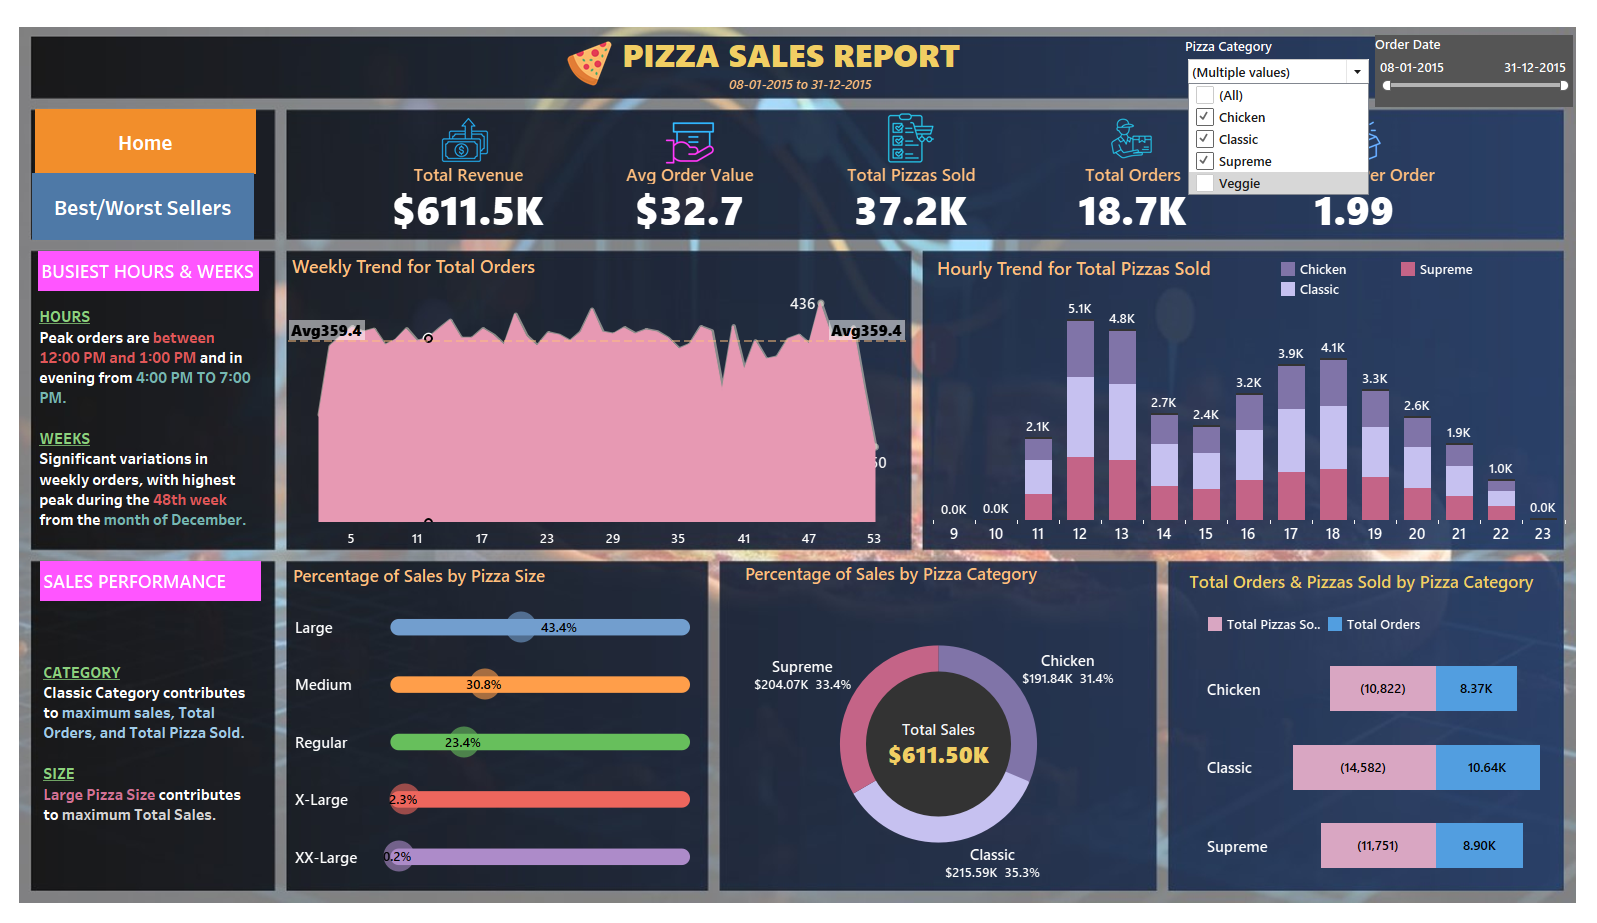

The page's visual inventory and layout, read from the dashboard file:
{"tool":"tableau","page":{"name":"Home","canvas":[1000,1000],"units":"permille","ordinal":1},"visuals":[{"type":"image","param":"C:/Users/Tina/Downloads/Pizza_Sales_DA_Project/Pizza Tableau 1.jpg","box":[5.7,10,988.6,980]},{"type":"text","box":[388.1,16.2,267.9,53.7]},{"type":"filter","title":"Hourly Trend for Total Pizzas Sold","param":"[federated.1rhqq5h0ih03i810tzn9k1f3qnil].[none:order_date:qk]","box":[860.6,22.5,123.8,79.9]},{"type":"filter","title":"Hourly Trend for Total Pizzas Sold","param":"[federated.1rhqq5h0ih03i810tzn9k1f3qnil].[none:pizza_category:nk]","box":[741.8,25,116.6,76.2]},{"type":"image","param":"C:/Users/Tina/Downloads/Pizza_Sales_DA_Project/Pizza Sales Images/pizza-slice.pn","box":[347.1,27.5,44.8,51.2]},{"type":"worksheet","title":"Date Range","mark":"Automatic","box":[335,62.4,333.1,28.7]},{"type":"dashboard-object","box":[22.9,104.9,138.1,72.4]},{"type":"image","param":"C:/Users/Tina/Downloads/Pizza_Sales_DA_Project/Pizza Sales Images/order-delivery","box":[554.4,107.2,31.9,57.4]},{"type":"image","param":"C:/Users/Tina/Downloads/Pizza_Sales_DA_Project/Pizza Sales Images/order (1).png","box":[835,107.2,31.2,57.4]},{"type":"image","param":"C:/Users/Tina/Downloads/Pizza_Sales_DA_Project/Pizza Sales Images/profit-growth.","box":[271.2,108.5,40.6,58.6]},{"type":"image","param":"C:/Users/Tina/Downloads/Pizza_Sales_DA_Project/Pizza Sales Images/delivery-man.p","box":[695,109.7,26.2,54.9]},{"type":"image","param":"C:/Users/Tina/Downloads/Pizza_Sales_DA_Project/Pizza Sales Images/shipping-box.p","box":[412.5,111,39.4,61.1]},{"type":"worksheet","title":"KPI Banner","mark":"Automatic","box":[225,165.8,691.9,77.3]},{"type":"dashboard-object","box":[21.5,176,138.8,74.9]},{"type":"worksheet","title":"Weekly Trend for Total Orders","mark":"Area","rows":["Calculation_1121959257505132545","Calculation_1121959257505132545"],"cols":["order_date"],"box":[181,260.9,386.3,332.1]},{"type":"text","box":[25,262.2,138.1,44.9]},{"type":"worksheet","title":"Hourly Trend for Total Pizzas Sold","mark":"Bar","rows":["Calculation_1121959257506127875","Calculation_1121959257506127875"],"cols":["order_time"],"box":[584.4,263.4,395.6,324.6]},{"type":"legend","title":"Hourly Trend for Total Pizzas Sold","param":"[federated.1rhqq5h0ih03i810tzn9k1f3qnil].[none:pizza_category:nk]","box":[800.1,270.9,172.8,64.9]},{"type":"text","box":[23.6,308.4,138.1,285.9]},{"type":"worksheet","title":"Percentage of Sales by Pizza Category","mark":"Pie","rows":["Calculation_1280992619548090369","Calculation_1280992619548176387"],"box":[464.2,603,246.8,370.8]},{"type":"worksheet","title":"Percentage of Sales by Pizza Size","mark":"Line","rows":["pizza_size"],"box":[181.7,605.5,259.7,360.8]},{"type":"text","box":[26.5,606.7,138.1,44.9]},{"type":"text","box":[742.5,610.5,224.6,37.5]},{"type":"text","box":[26.5,652.9,138.1,317.1]},{"type":"legend","title":"Total Orders & Pizzas Sold by Pizza Category","param":"[federated.1rhqq5h0ih03i810tzn9k1f3qnil].[:Measure Names]","box":[754.6,665.4,213.9,40]},{"type":"worksheet","title":"Total Orders & Pizzas Sold by Pizza Category","mark":"Automatic","rows":["pizza_category"],"box":[751.8,704.1,219.6,262.2]}]}

Visuals, with their boxes on the dashboard's canvas, which has no fixed pixel size, in thousandths of its width and height (x1, y1, x2, y2). These are canvas units, not pixel positions in the 1597x923 screenshot, which may show the page scaled, cropped or inside an application window:
image: l=6, t=10, r=994, b=990
text: l=388, t=16, r=656, b=70
"Hourly Trend for Total Pizzas Sold" filter: l=861, t=22, r=984, b=102
"Hourly Trend for Total Pizzas Sold" filter: l=742, t=25, r=858, b=101
image: l=347, t=28, r=392, b=79
"Date Range" worksheet: l=335, t=62, r=668, b=91
dashboard-object: l=23, t=105, r=161, b=177
image: l=554, t=107, r=586, b=165
image: l=835, t=107, r=866, b=165
image: l=271, t=108, r=312, b=167
image: l=695, t=110, r=721, b=165
image: l=412, t=111, r=452, b=172
"KPI Banner" worksheet: l=225, t=166, r=917, b=243
dashboard-object: l=22, t=176, r=160, b=251
"Weekly Trend for Total Orders" worksheet (Area marks): l=181, t=261, r=567, b=593
text: l=25, t=262, r=163, b=307
"Hourly Trend for Total Pizzas Sold" worksheet (Bar marks): l=584, t=263, r=980, b=588
"Hourly Trend for Total Pizzas Sold" legend: l=800, t=271, r=973, b=336
text: l=24, t=308, r=162, b=594
"Percentage of Sales by Pizza Category" worksheet (Pie marks): l=464, t=603, r=711, b=974
"Percentage of Sales by Pizza Size" worksheet (Line marks): l=182, t=606, r=441, b=966
text: l=26, t=607, r=165, b=652
text: l=742, t=610, r=967, b=648
text: l=26, t=653, r=165, b=970
"Total Orders & Pizzas Sold by Pizza Category" legend: l=755, t=665, r=968, b=705
"Total Orders & Pizzas Sold by Pizza Category" worksheet: l=752, t=704, r=971, b=966
